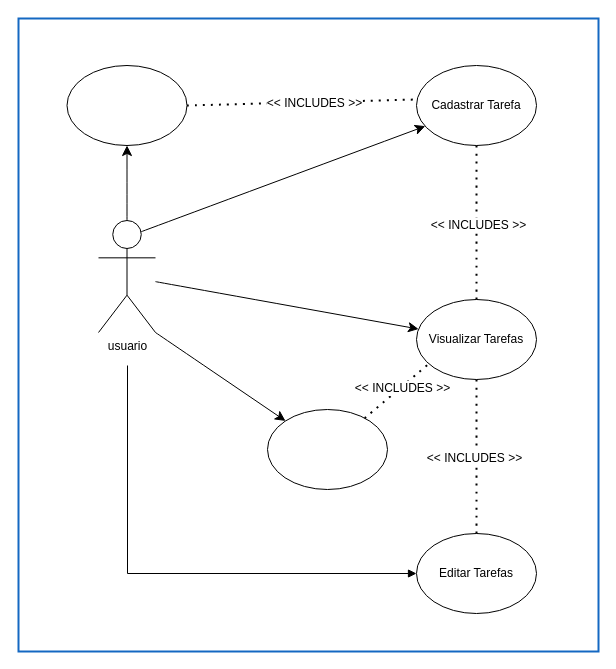
The diagram is 616 pixels wide and 669 high, and some of its shapes have lost their labels. Here are the shapes that lost their labels. From the top down, the box of each, then its label:
(66, 64, 187, 146): Cadastrar Usuario
(266, 408, 388, 490): Excluir Tarefas
